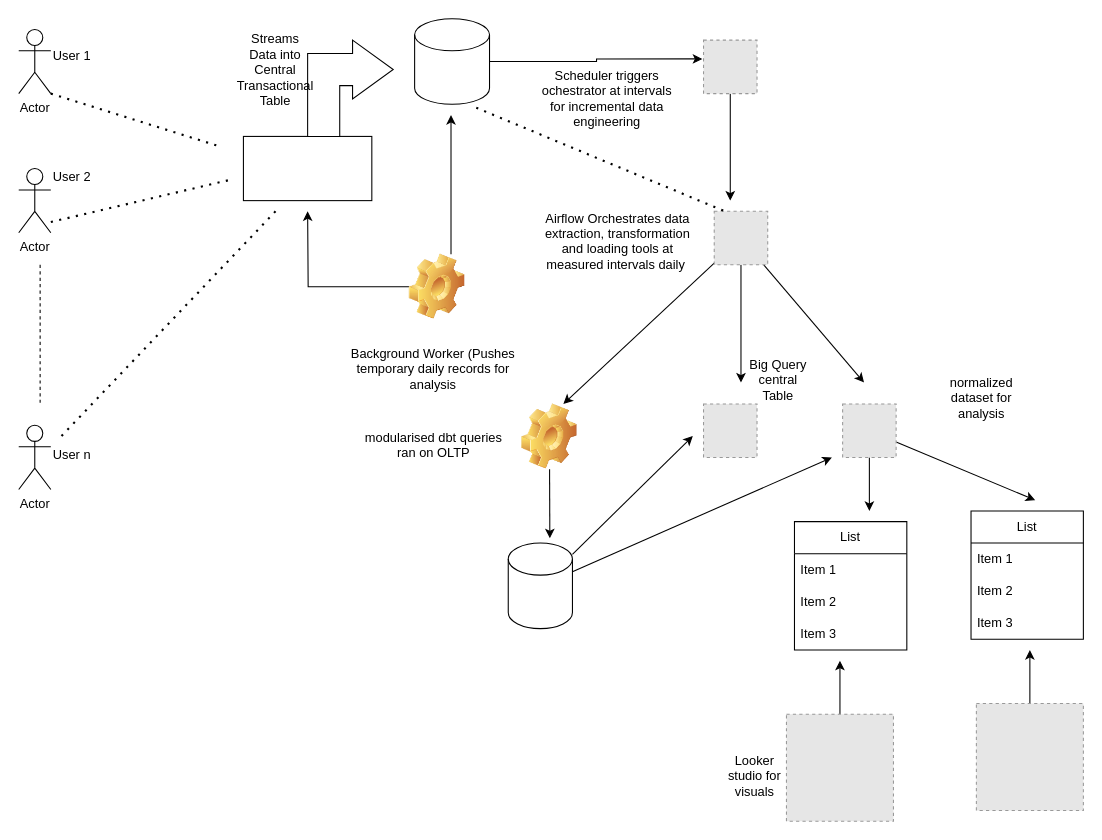
This 1102x840 diagram has some shape labels left out. Grey dashed boxes stand in for pictures. Here are the shapes that lost their labels. From the top down, the centre of each, then its label:
At point (452, 61): "OLTP DB (CLOUD SQL)".
At point (307, 168): "Virtual Machine Instance".
At point (539, 585): "windowed oltp db".
